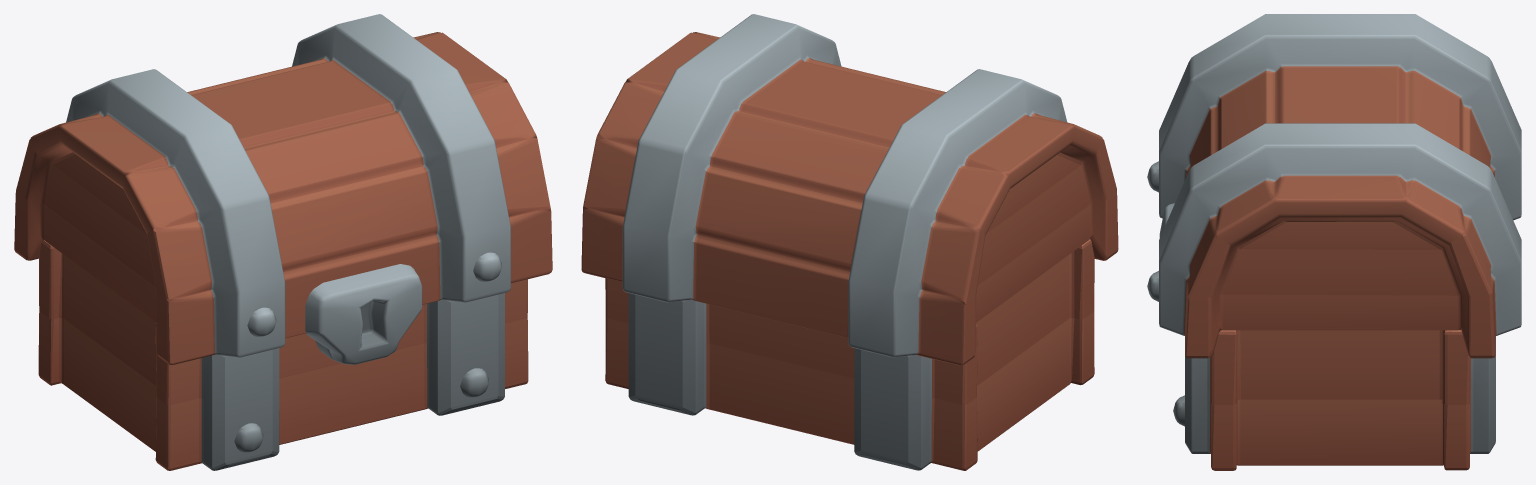
The model's file is kaykit-dungeon.glb.
3 renders of one model, left to right at view 1: azimuth 30°, elevation 25°; view 2: azimuth 150°, elevation 25°; view 3: azimuth 270°, elevation 25°, orthographic.
Visible parts, largest first — view 1: chest_lid, chest; view 2: chest_lid, chest; view 3: chest_lid, chest.
Boxes of the visible parts, left/top/right/bottom form: chest_lid: left=14, top=14, right=552, bottom=364; chest: left=38, top=240, right=528, bottom=470; chest_lid: left=581, top=14, right=1118, bottom=365; chest: left=605, top=239, right=1094, bottom=470; chest_lid: left=1147, top=14, right=1521, bottom=358; chest: left=1173, top=330, right=1495, bottom=470.
Size of the model in its own units: 1.7 by 1.3 by 1.45.
1 material, 1 textured.
